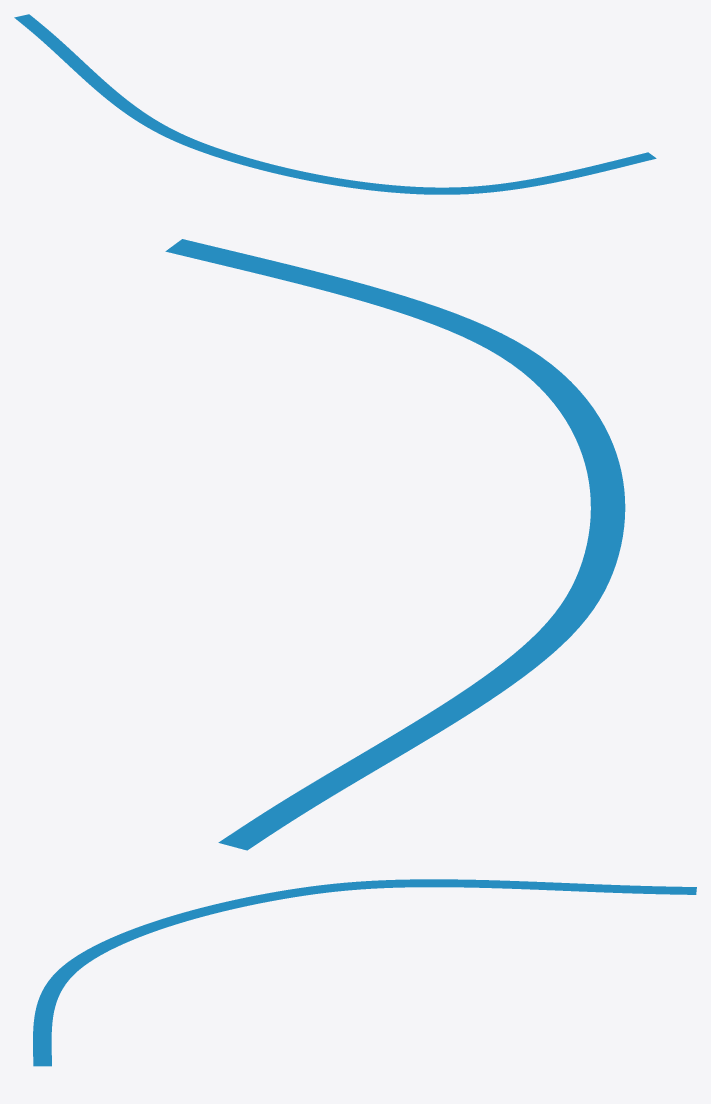
File: guide.glb
The picture shows the model from 3 angles, top to bottom: view 1: azimuth 30°, elevation 25°; view 2: azimuth 150°, elevation 25°; view 3: azimuth 270°, elevation 25°; orthographic projection. The views are drawn at different scales.
Parts seen in each view (by area): view 1: static; view 2: static; view 3: static.
Part boxes in pixels (x1,y1,x2,y2): static: [14, 14, 656, 194]; static: [165, 239, 625, 850]; static: [33, 879, 696, 1066].
Size of the model in its own units: 8.52 by 0 by 11.69.
